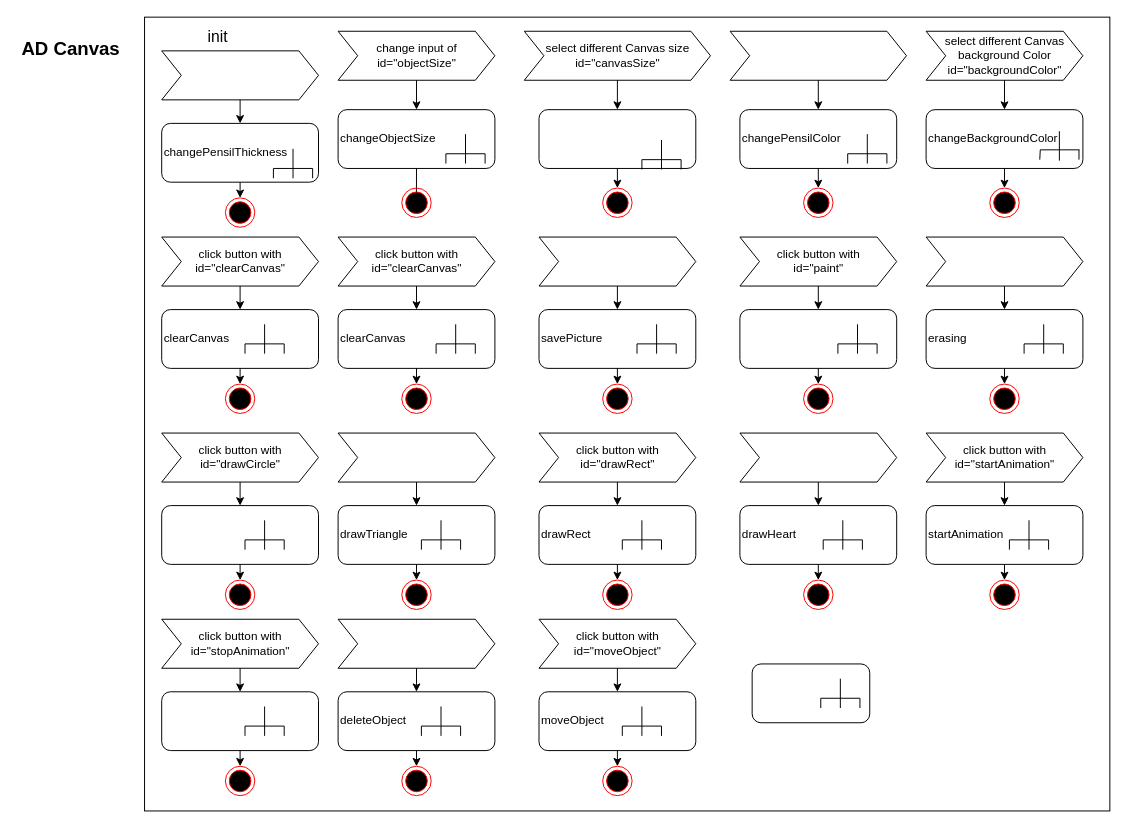
Some shapes in this 1127 by 828 pixel diagram are drawn without their labels. Here are the shapes that lost their labels. From the top down, the centre of each, then its label:
(239,75): change input of id="pensilThickness"
(817,55): select different pensil color id="pensilColor"
(617,138): changeCanvasSize
(617,261): click button with id="savePicture"
(1004,261): click button with id="eraser"
(818,338): paint
(416,457): click button with id="drawTriangle"
(818,457): click button with id="drawHeart"
(239,534): drawCircle
(416,643): click button with id="deleteObject"
(810,693): username
(239,721): stopAnimation
